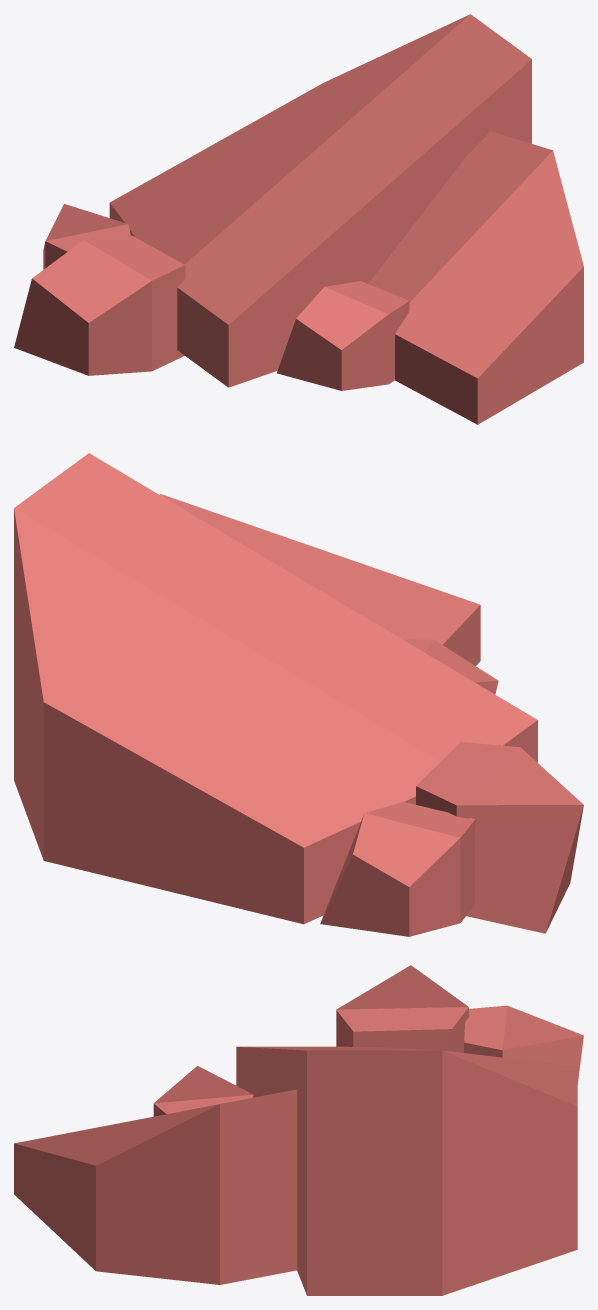
File: RockType5 01.fbx
3 renders of one model, top to bottom at view 1: azimuth 30°, elevation 25°; view 2: azimuth 150°, elevation 25°; view 3: azimuth 270°, elevation 25°, orthographic. The views are drawn at different scales.
Visible parts, largest first — view 1: Rock Type5 01 mesh; view 2: Rock Type5 01 mesh; view 3: Rock Type5 01 mesh.
Part boxes in pixels (bbox=[...]): Rock Type5 01 mesh: bbox=[14, 14, 583, 424]; Rock Type5 01 mesh: bbox=[14, 453, 583, 936]; Rock Type5 01 mesh: bbox=[14, 965, 583, 1295].
Bounding box in the file's own units: 194 × 95.23 × 192.
